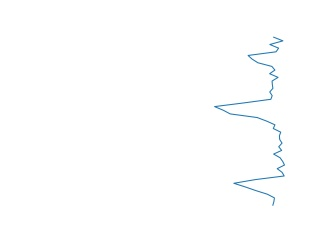underwaterNaturalLevee: (210, 35, 292, 208)
